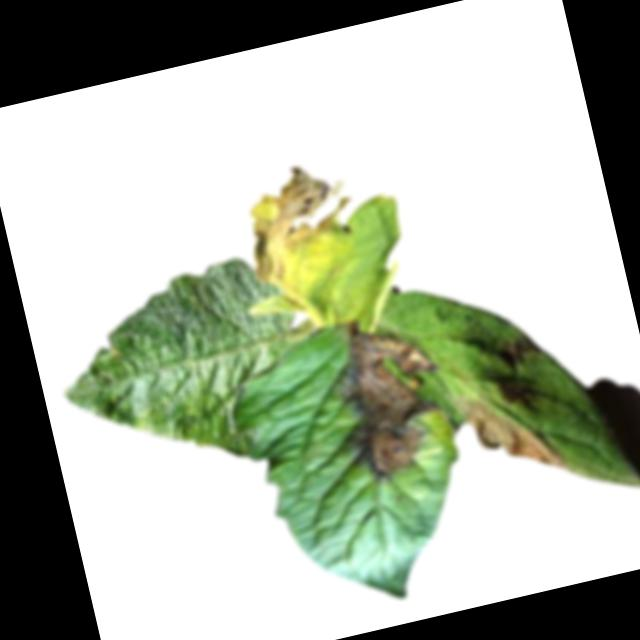Late_blight: (317, 302, 459, 488), (233, 155, 375, 320), (453, 376, 570, 494), (505, 332, 543, 369)
